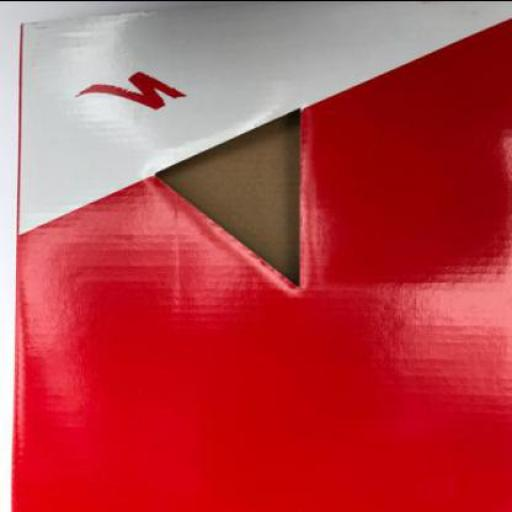cardboard: (8, 1, 512, 510)
